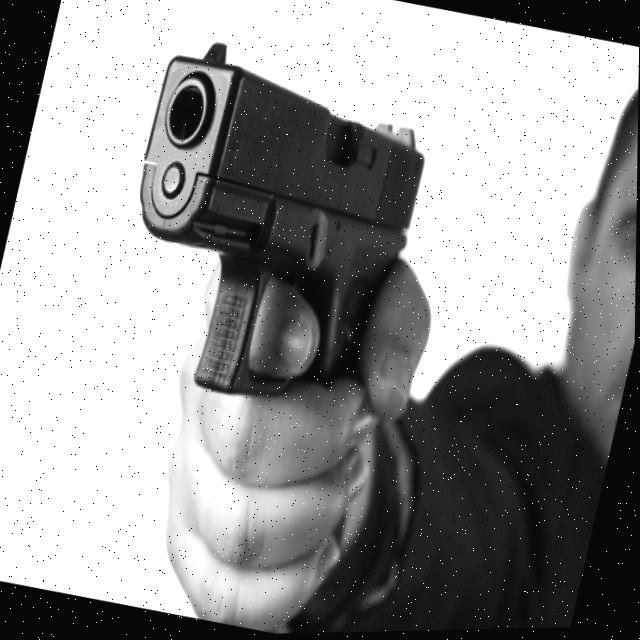pistol: (94, 24, 445, 429)
